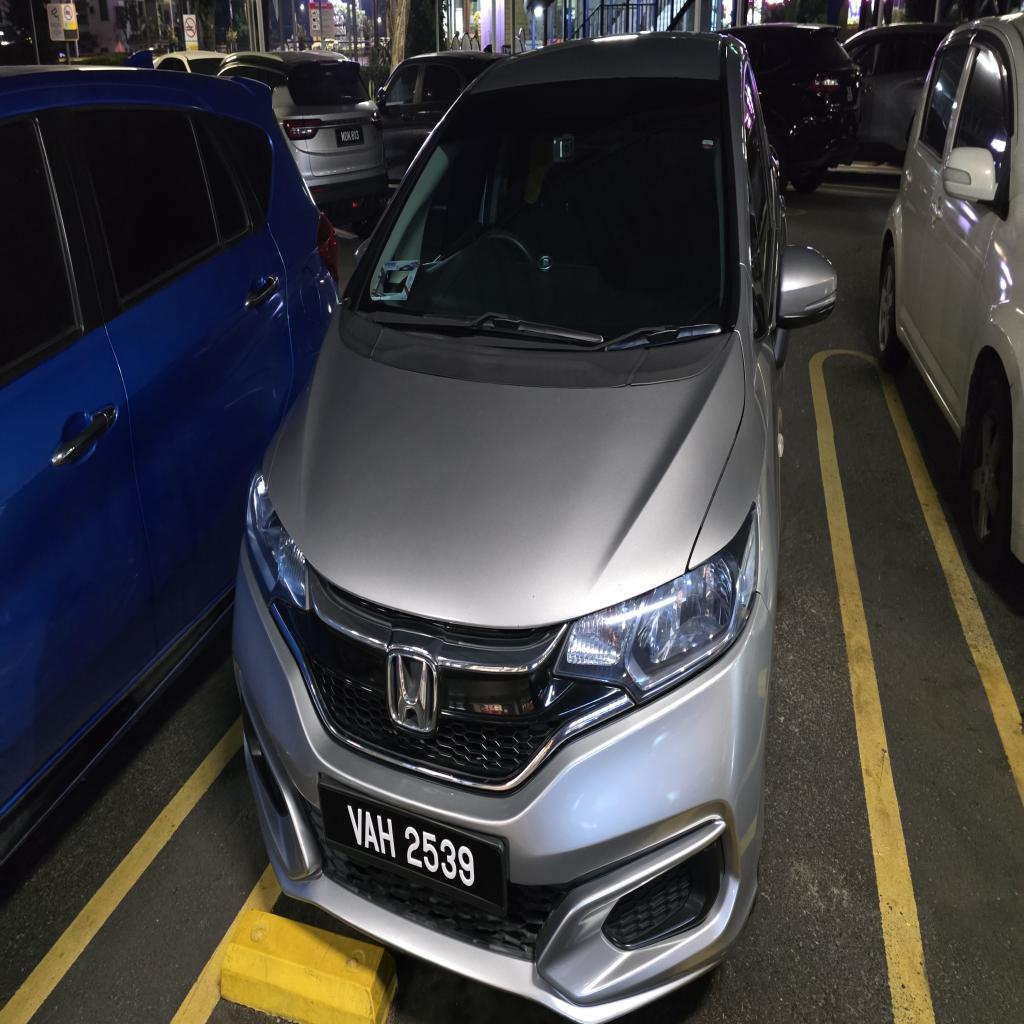car: (233, 34, 835, 1024)
car plate: (319, 785, 506, 915)
